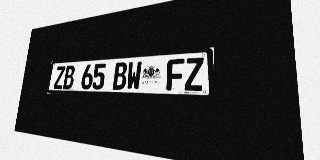5: (92, 63, 106, 90)
6: (81, 64, 94, 89)
B: (112, 62, 128, 90), (63, 65, 75, 89)
F: (166, 58, 184, 91)
W: (126, 61, 142, 90)
Z: (184, 57, 204, 91), (53, 66, 65, 89)
